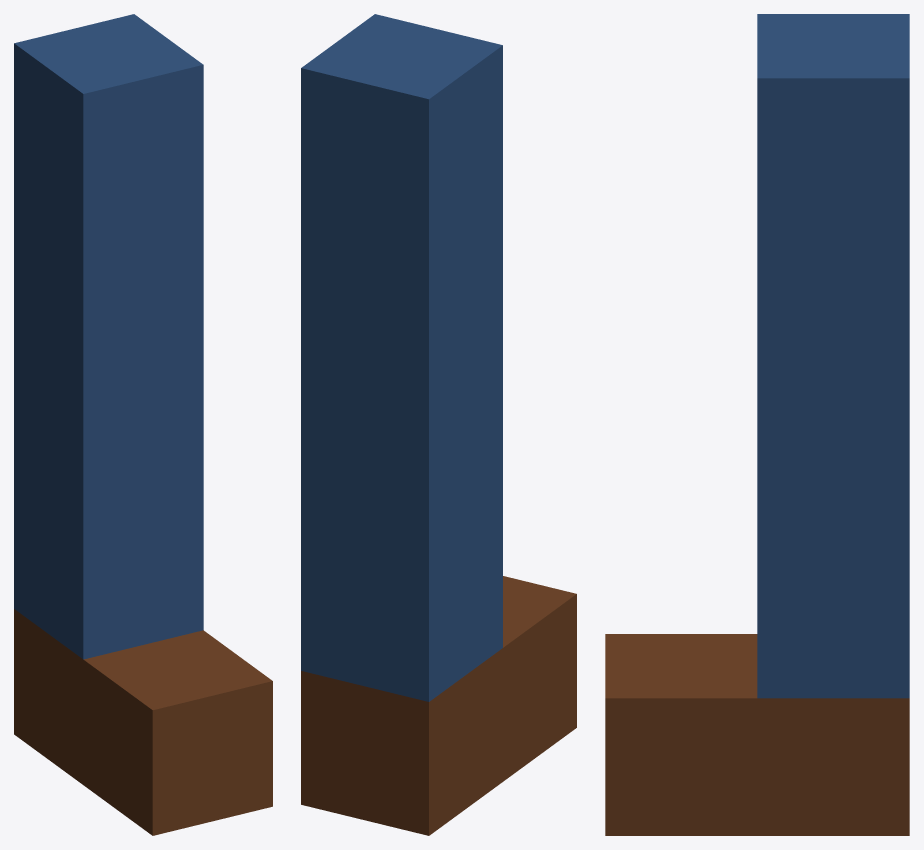
File: leg.obj
3 views of the same model, side by side, from view 1: azimuth 30°, elevation 25°; view 2: azimuth 150°, elevation 25°; view 3: azimuth 270°, elevation 25° (orthographic). The views are drawn at different scales.
Bounding box in the file's own units: 0.2 × 1.1 × 0.4.
1 material, 1 textured.
